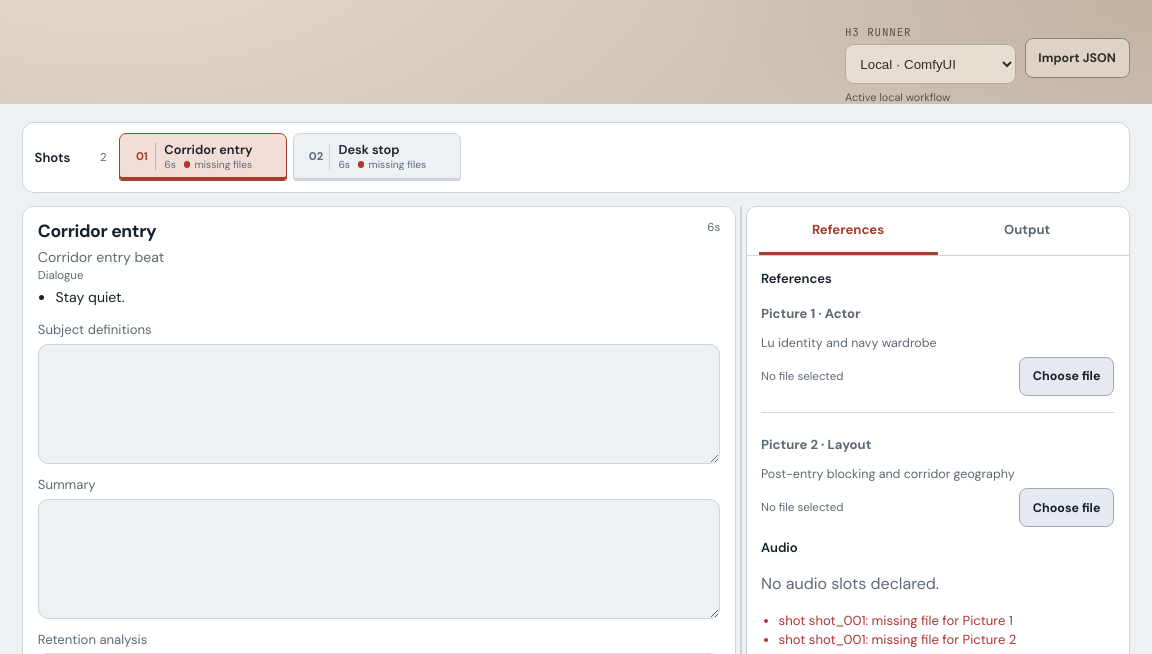
Test: JsonProductionPage three-column workspace › selecting shot_002 updates the list, six prompt fields, and asset slots
Step 1. Click the button with aria-label "shot_002" → [377, 157], box [293, 133, 461, 181]
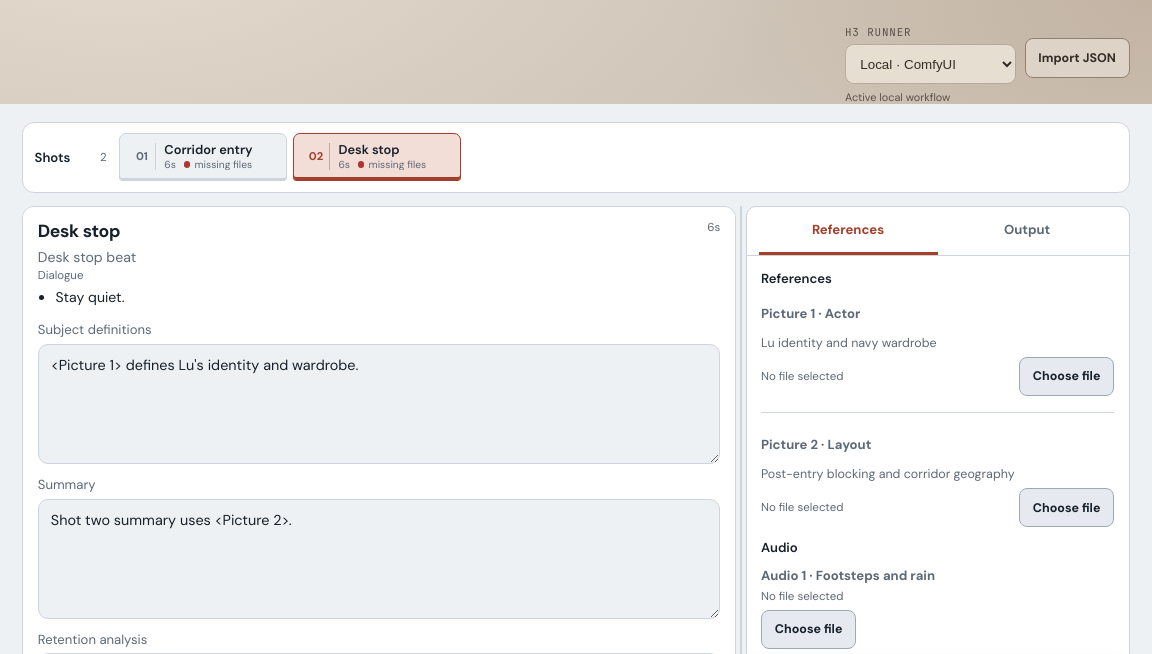
expect the text "Picture 1 · Actor" is shown: met, box [761, 305, 860, 322]
expect the text box labelled "Summary" holds "Shot two summary uses <Picture 2>.": met, box [38, 498, 720, 618]
expect the text "Audio 1 · Footsteps and rain" is shown: met, box [761, 566, 935, 584]
